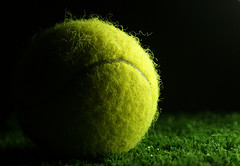tennis ball: (50, 18, 159, 156)
